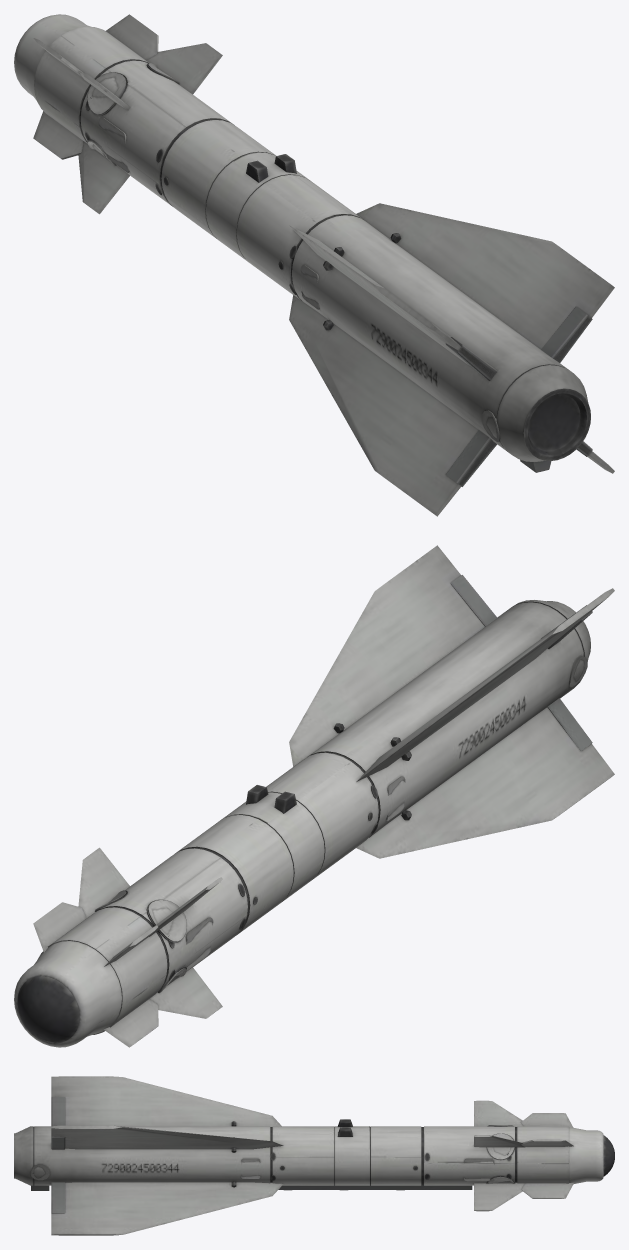
3 views of the same model, one above another, from view 1: azimuth 30°, elevation 25°; view 2: azimuth 150°, elevation 25°; view 3: azimuth 270°, elevation 25° (orthographic). The views are drawn at different scales.
Visible parts, largest first — view 1: body|K29_body, body|K29_wing, body|K29_dark, body|K29_ctrl; view 2: body|K29_body, body|K29_wing, body|K29_dark, body|K29_ctrl; view 3: body|K29_body, body|K29_wing, body|K29_ctrl, body|K29_dark.
Boxes of the visible parts, <box> form: body|K29_body: <box>14,14,588,461</box>; body|K29_wing: <box>33,14,614,516</box>; body|K29_dark: <box>78,59,590,460</box>; body|K29_ctrl: <box>445,307,592,486</box>; body|K29_body: <box>14,600,590,1047</box>; body|K29_wing: <box>33,545,614,1047</box>; body|K29_dark: <box>17,601,584,1043</box>; body|K29_ctrl: <box>450,575,592,750</box>; body|K29_body: <box>14,1125,603,1185</box>; body|K29_wing: <box>30,1076,574,1235</box>; body|K29_ctrl: <box>31,1097,472,1213</box>; body|K29_dark: <box>33,1119,614,1190</box>.
Size of the model in its own units: 0.7861 by 0.7861 by 3.89.
Materials: 4 (4 with a texture image).
